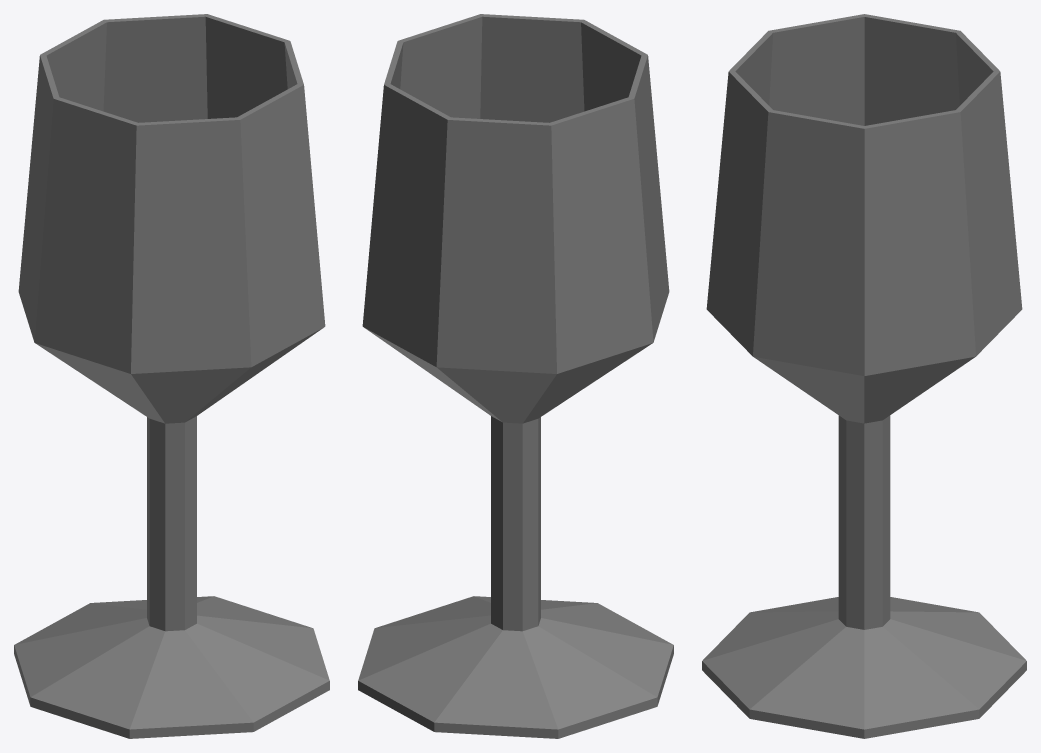
The model's file is tablecupwineglass01.obj.
3 views of the same model, side by side, from view 1: azimuth 30°, elevation 25°; view 2: azimuth 150°, elevation 25°; view 3: azimuth 270°, elevation 25° (orthographic).
Visible parts, largest first — view 1: Cylinder_Cylinder.001; view 2: Cylinder_Cylinder.001; view 3: Cylinder_Cylinder.001.
Part boxes in pixels (bbox=[...]): Cylinder_Cylinder.001: bbox=[14, 14, 329, 738]; Cylinder_Cylinder.001: bbox=[358, 14, 673, 738]; Cylinder_Cylinder.001: bbox=[702, 14, 1026, 738].
Bounding box in the file's own units: 0.074 × 0.1504 × 0.074.
